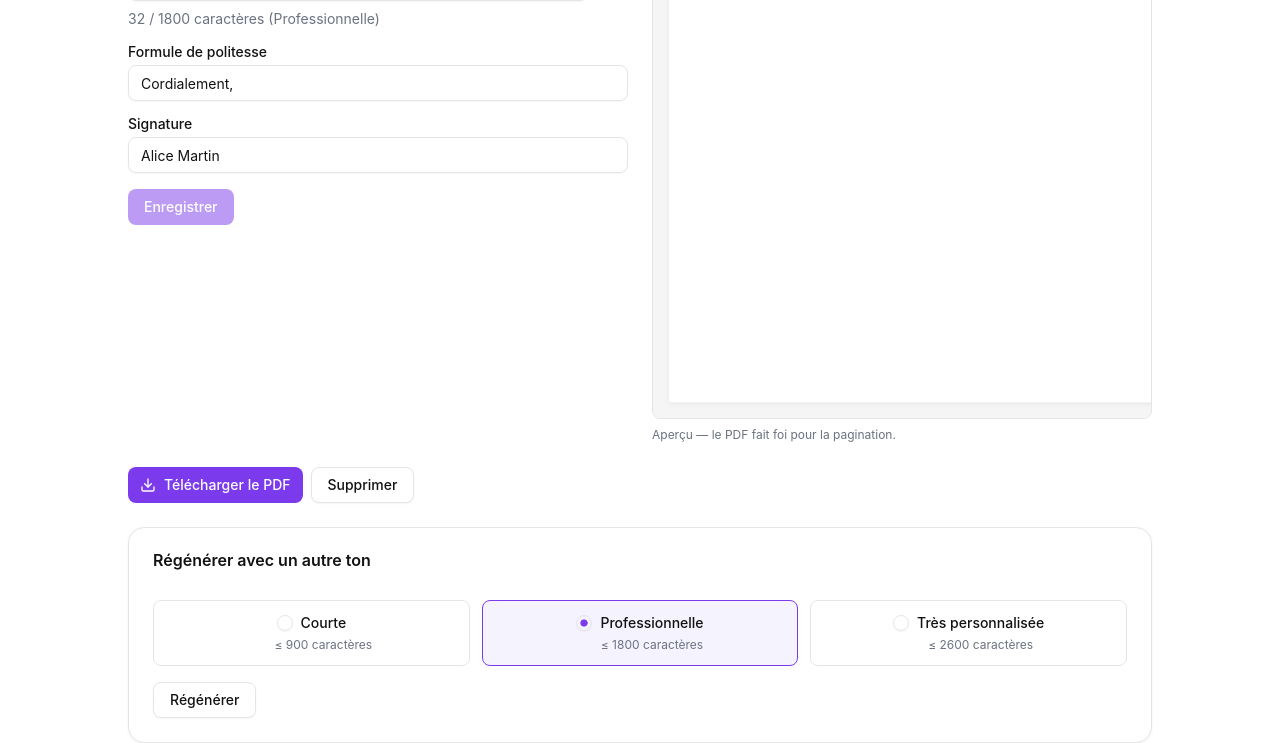
Test case: CoverLetterPage — regeneration › demande confirmation avant de regenerer, cree une nouvelle lettre et affiche son objet
The image size is (1280, 743).
(page scrolled)
Step 1. Click the radio button named "courte" next to "Courte" → [284, 623], box [276,615,292,631]
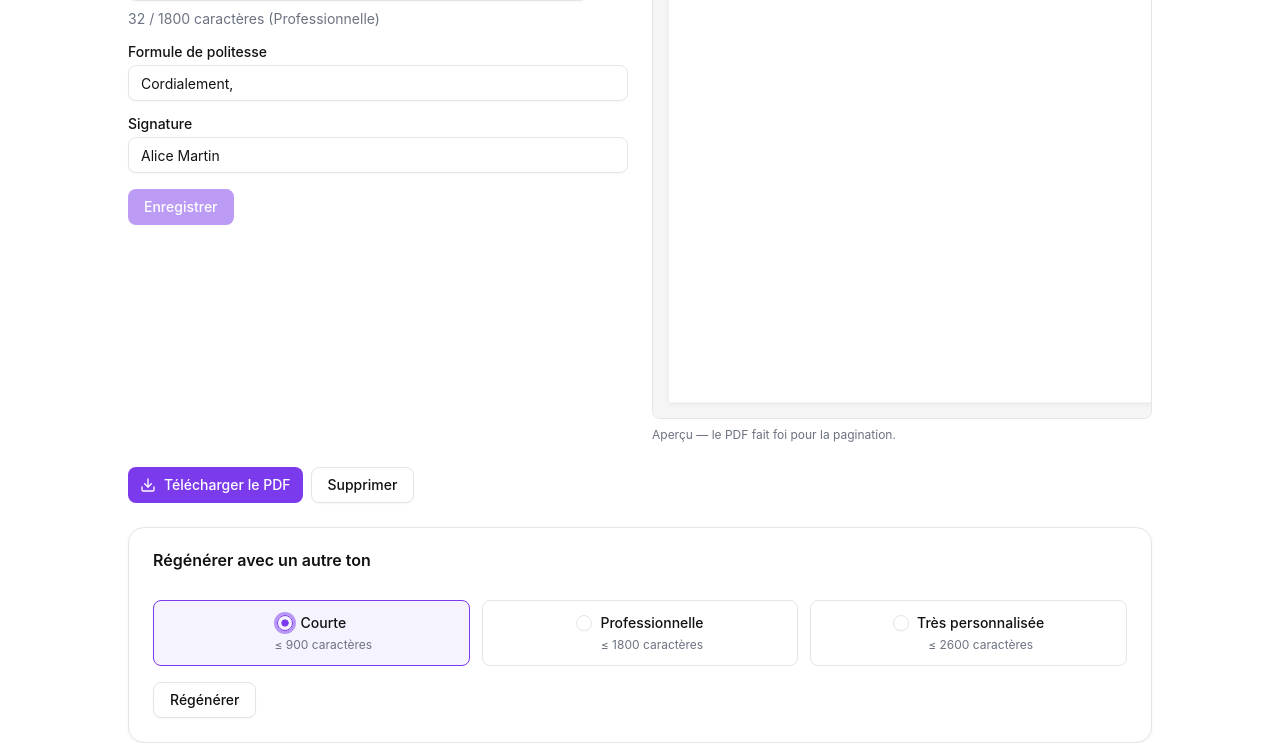
Step 2. Click the button "Régénérer" → [205, 700], box [153,682,256,718]
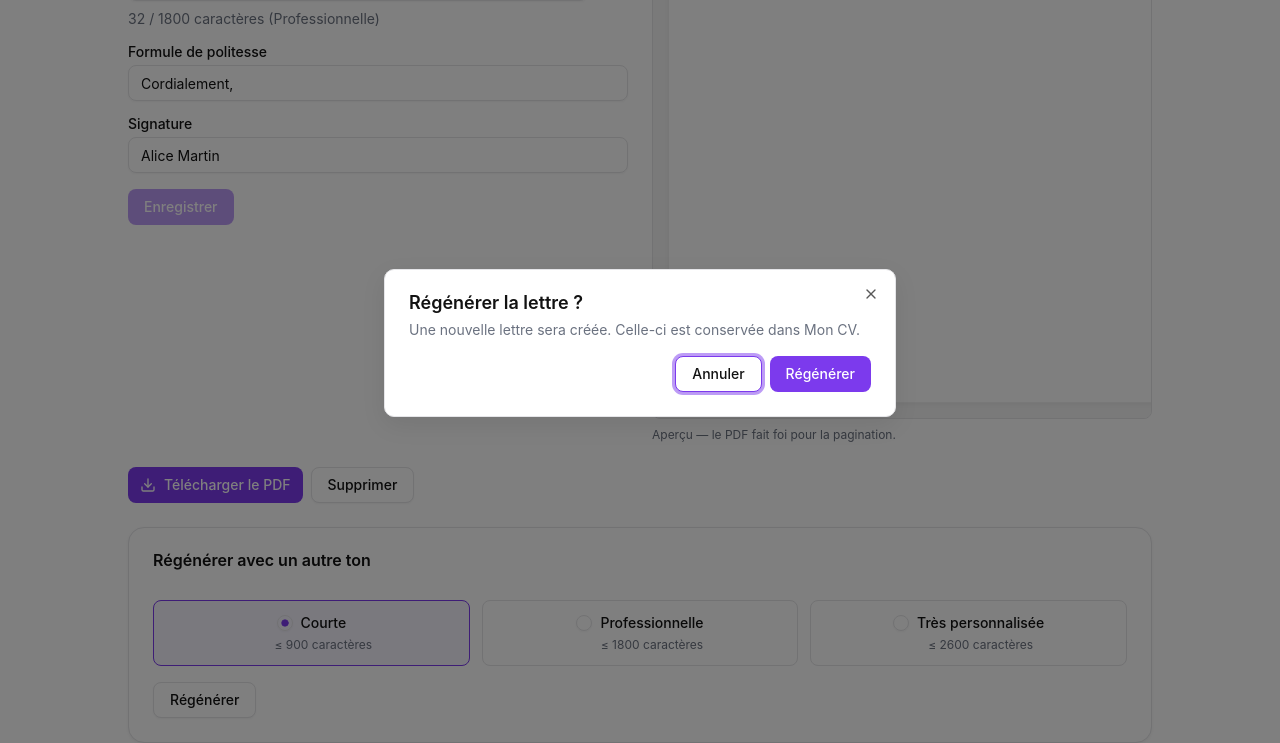
Expected: the text "Une nouvelle lettre sera créée. Celle-ci est conservée dans Mon CV." is shown, [409,320,871,340]
Step 3. Click the button "Régénérer" → [820, 374], box [770,356,871,392]
(page scrolled)
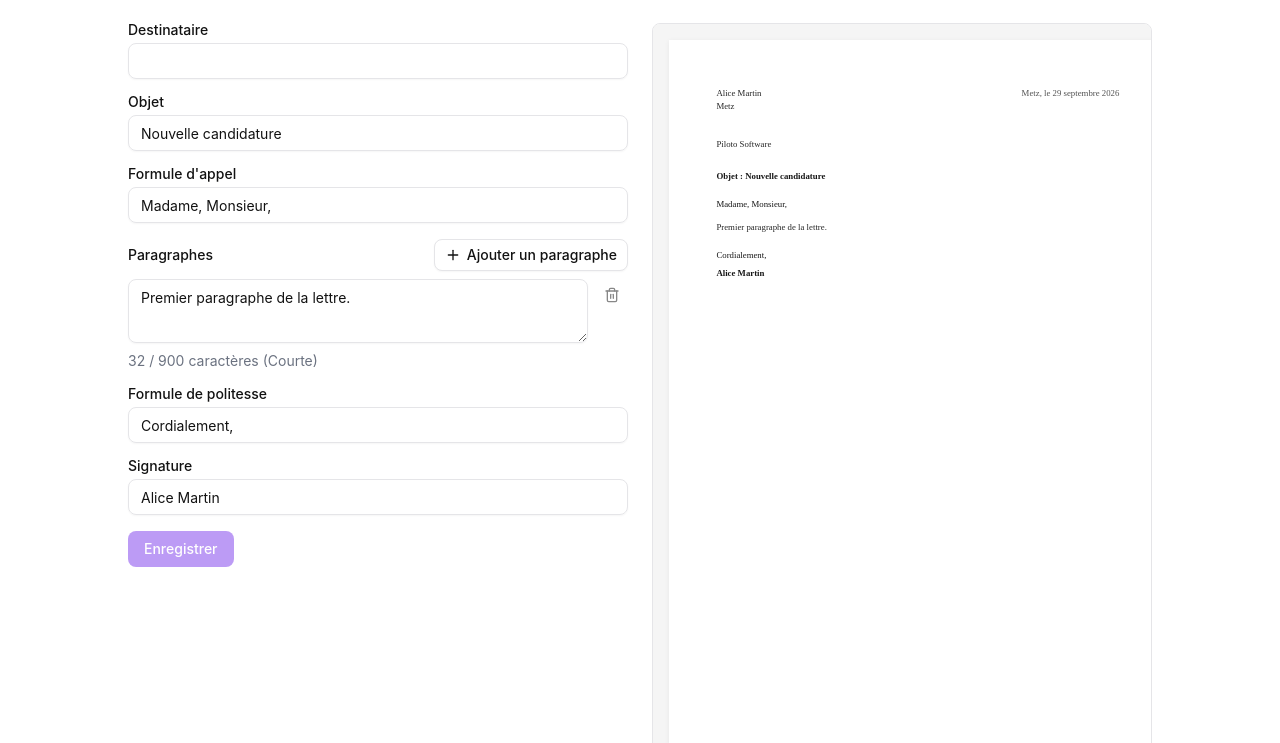
Expected: the field labelled "Objet" holds "Nouvelle candidature", [128,115,628,151]
Expected: the text "Objet : Nouvelle candidature" is shown, [716,171,825,181]
